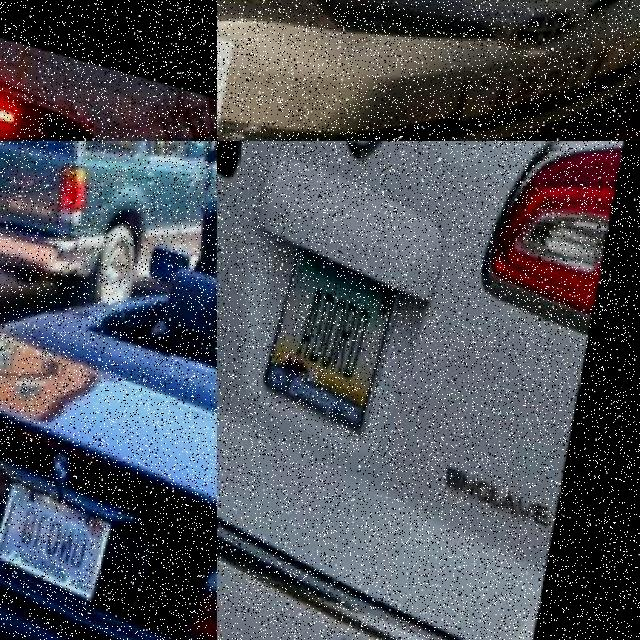licenseplate: (259, 240, 390, 428), (0, 469, 108, 583), (456, 43, 605, 118), (0, 209, 28, 254)
